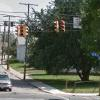Traffic light: (51, 16, 67, 38)
